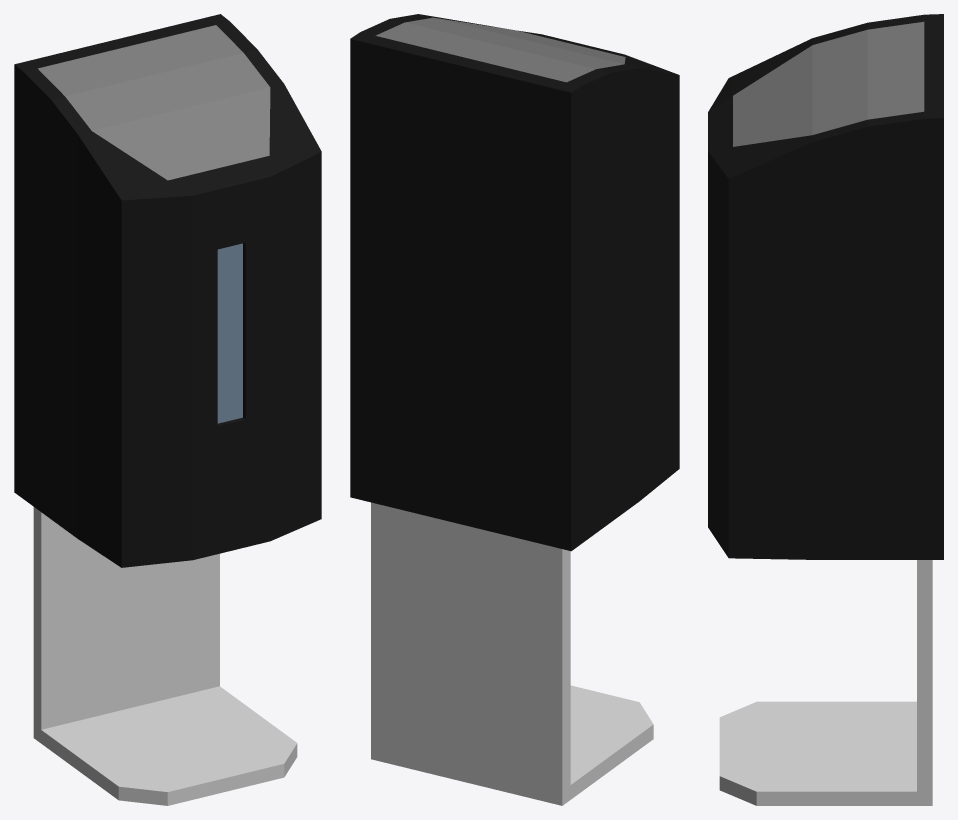
The model's file is Int_RestroomDispenser01.fbx.
The picture shows the model from 3 angles, left to right: view 1: azimuth 30°, elevation 25°; view 2: azimuth 150°, elevation 25°; view 3: azimuth 270°, elevation 25°; orthographic projection. The views are drawn at different scales.
Parts seen in each view (by area): view 1: Int_RestroomDispenser01; view 2: Int_RestroomDispenser01; view 3: Int_RestroomDispenser01.
Part boxes in pixels (x1,y1,x2,y2): Int_RestroomDispenser01: (14, 14, 321, 805); Int_RestroomDispenser01: (350, 14, 679, 805); Int_RestroomDispenser01: (708, 14, 943, 805).
Size of what is drawn, in the model's own units: 11.23 by 10.76 by 34.99.
